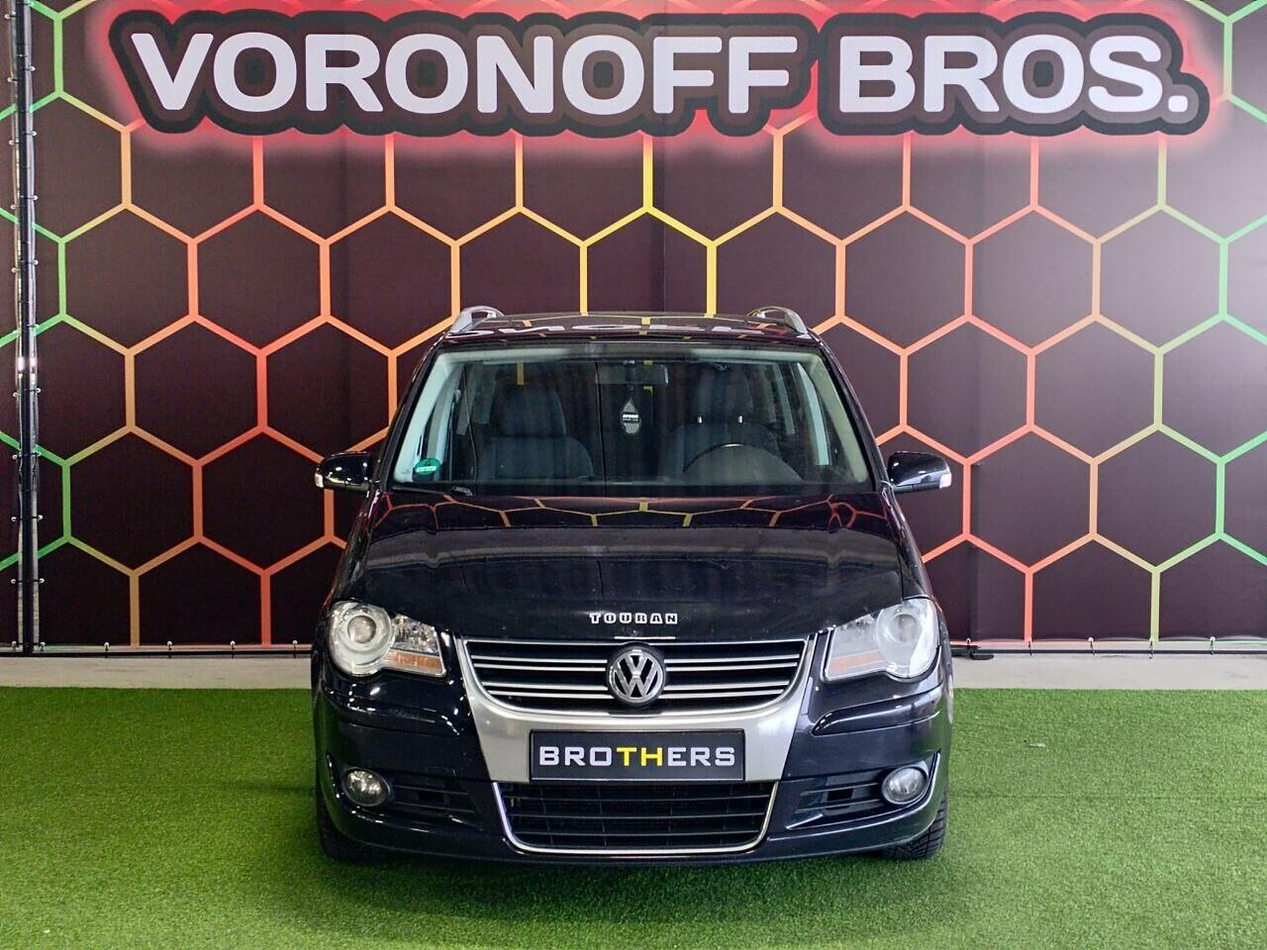Touran_2006-2010: (306, 308, 979, 875)
